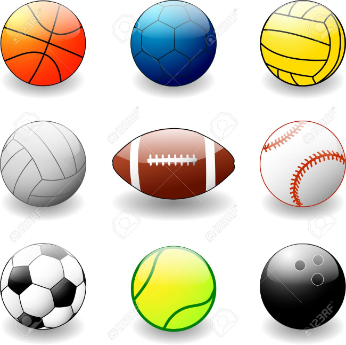ball: (105, 119, 243, 208), (126, 236, 224, 335), (1, 237, 96, 334), (253, 236, 346, 333), (124, 1, 224, 91), (1, 117, 94, 210), (255, 115, 346, 209), (255, 1, 346, 90), (1, 1, 88, 89)
